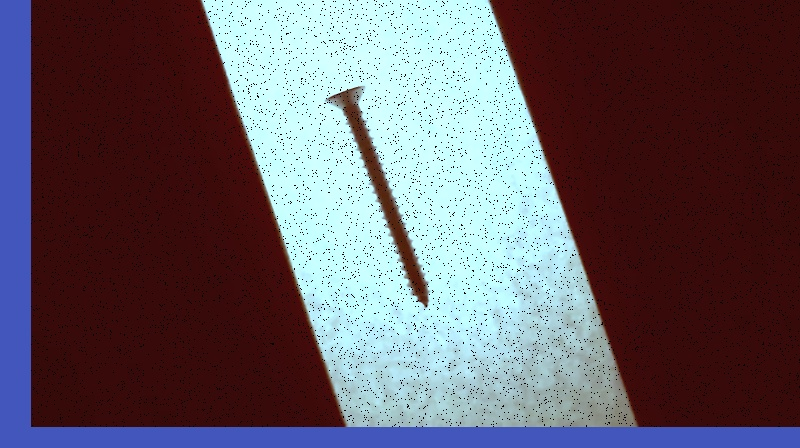S002: (320, 80, 431, 308)
